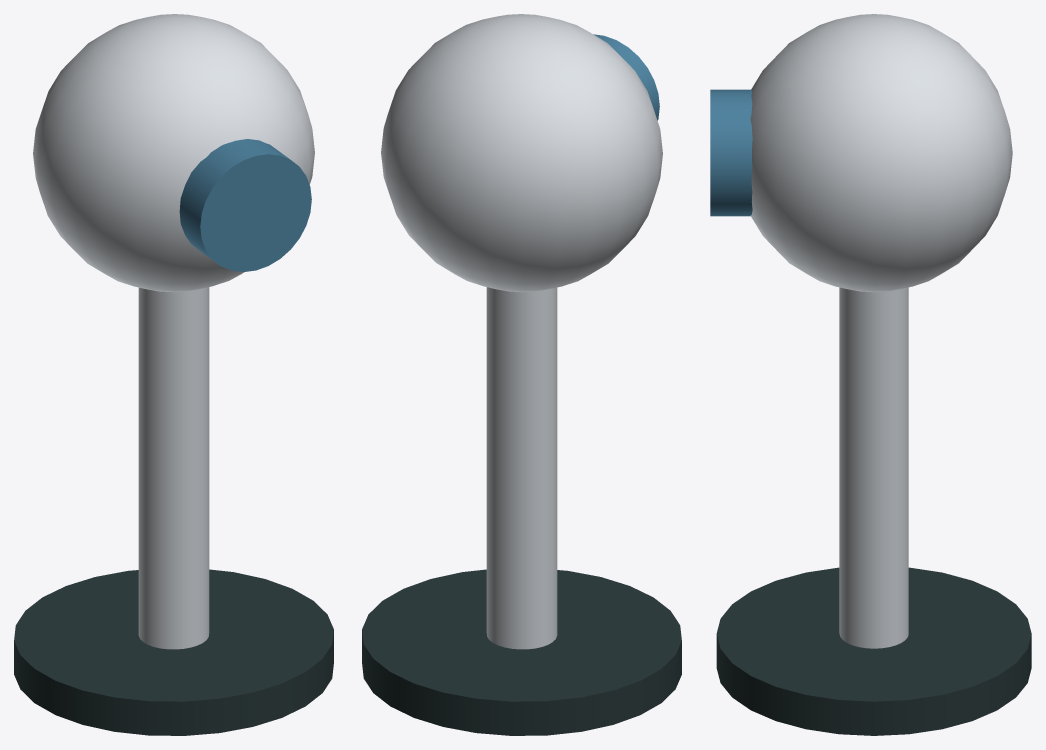
The model's file is wp-tourelle-de-capteurs.glb.
The picture shows the model from 3 angles, left to right: view 1: azimuth 30°, elevation 25°; view 2: azimuth 150°, elevation 25°; view 3: azimuth 270°, elevation 25°; orthographic projection.
Visible parts, largest first — view 1: wp-tourelle-de-capteurs; view 2: wp-tourelle-de-capteurs; view 3: wp-tourelle-de-capteurs.
Part boxes in pixels (<box>): wp-tourelle-de-capteurs: <box>14,14,333,735</box>; wp-tourelle-de-capteurs: <box>362,14,681,735</box>; wp-tourelle-de-capteurs: <box>710,14,1031,735</box>.
Bounding box in the file's own units: 0.5 × 1.1 × 0.5.
